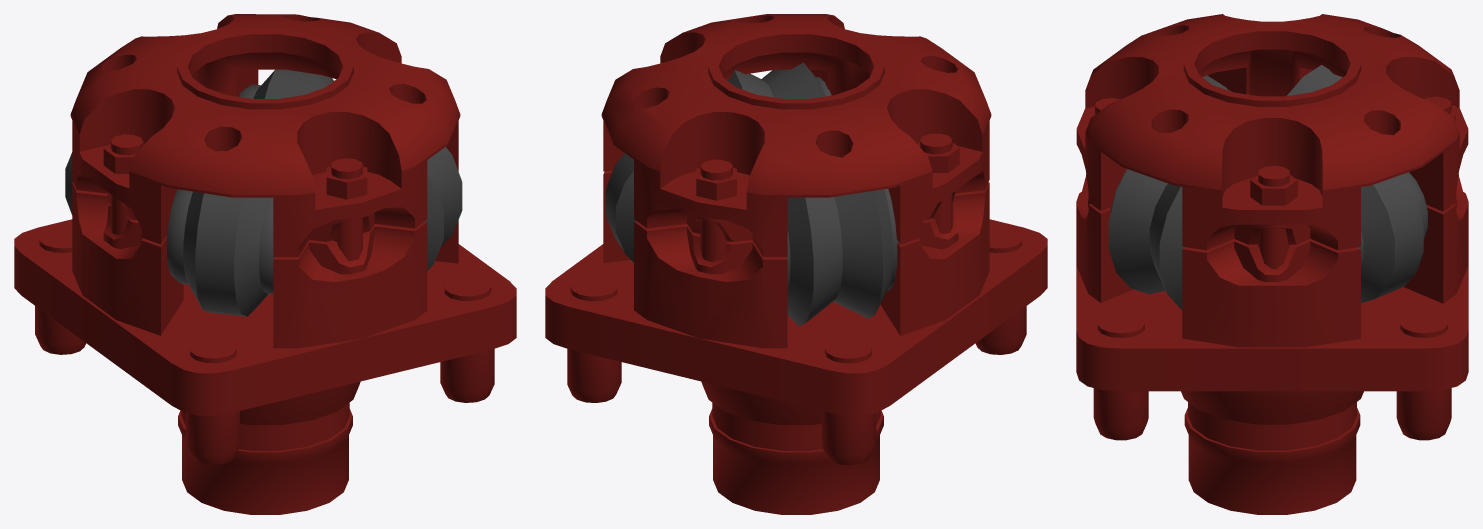
The model's file is Kelly_Bushing.glb.
3 views of the same model, side by side, from view 1: azimuth 30°, elevation 25°; view 2: azimuth 150°, elevation 25°; view 3: azimuth 270°, elevation 25° (orthographic).
Visible parts, largest first — view 1: DownerSection_low, UpperSection_low, Loole_low.001, Ghaltak02_low, Pich_low.002, Ghaltak01_low; view 2: DownerSection_low, UpperSection_low, Loole_low.001, Ghaltak01_low, Pich_low.002, Ghaltak02_low; view 3: UpperSection_low, DownerSection_low, Loole_low.001, Ghaltak01_low, Ghaltak02_low, Pich_low.002.
Boxes of the visible parts, x1,y1,x2,y2 form: DownerSection_low: (14,182,516,464); UpperSection_low: (70,14,460,256); Loole_low.001: (178,381,360,514); Ghaltak02_low: (166,69,333,316); Pich_low.002: (103,134,367,261); Ghaltak01_low: (65,147,462,270); DownerSection_low: (545,170,1047,465); UpperSection_low: (601,14,991,256); Loole_low.001: (701,381,883,514); Ghaltak01_low: (727,62,898,326); Pich_low.002: (696,133,959,261); Ghaltak02_low: (605,153,636,262); UpperSection_low: (1076,14,1468,250); DownerSection_low: (1076,174,1468,440); Loole_low.001: (1181,391,1363,514); Ghaltak01_low: (1108,65,1342,309); Ghaltak02_low: (1202,75,1427,303); Pich_low.002: (1090,96,1455,269).
Size of the model in its own units: 3.5 by 4.1 by 3.5.
